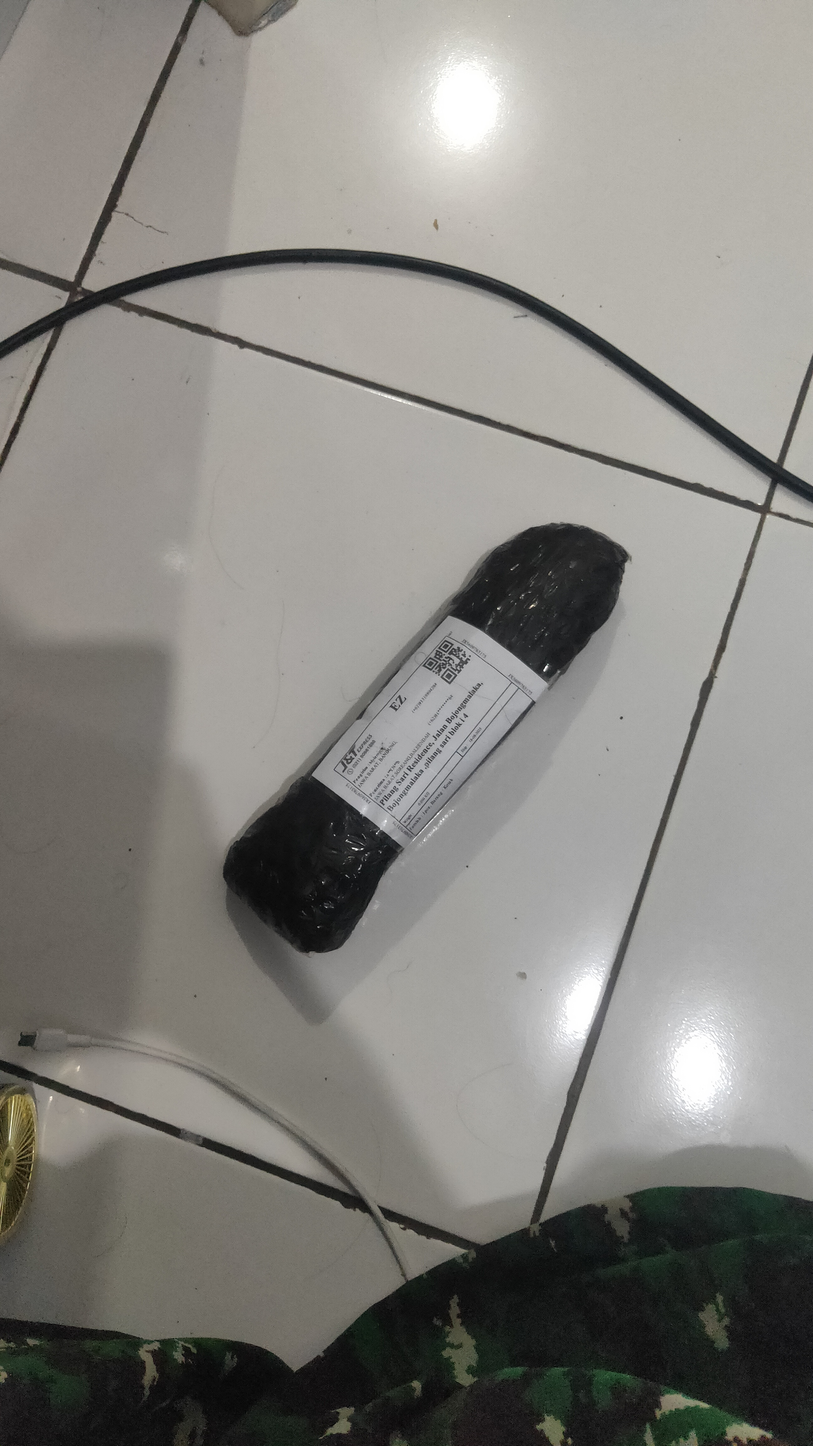undamaged: (223, 524, 630, 964)
